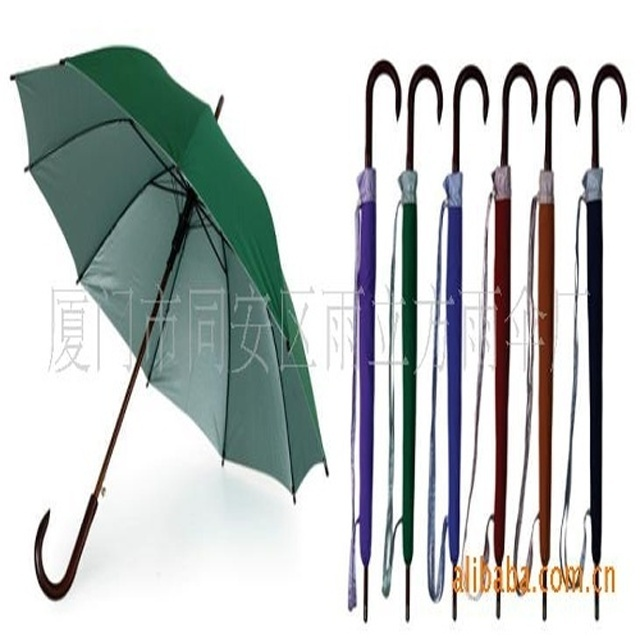umbrella: (5, 34, 332, 606), (351, 56, 404, 628), (489, 59, 542, 617), (580, 59, 632, 626), (396, 62, 447, 628), (442, 63, 492, 621), (532, 61, 580, 624)
